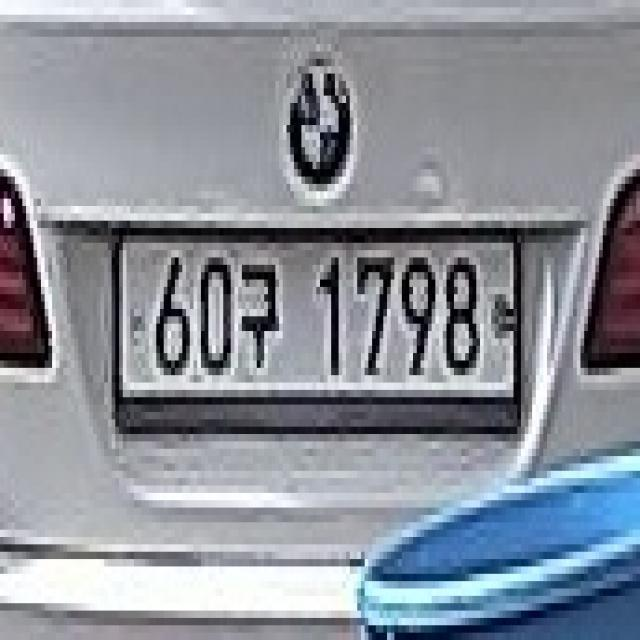0: (197, 248, 236, 378)
1: (312, 246, 348, 384)
6: (149, 252, 193, 382)
7: (354, 244, 398, 378)
8: (442, 242, 482, 382)
9: (402, 242, 438, 381)
gu: (240, 248, 283, 373)
license_plate: (104, 197, 528, 446)
